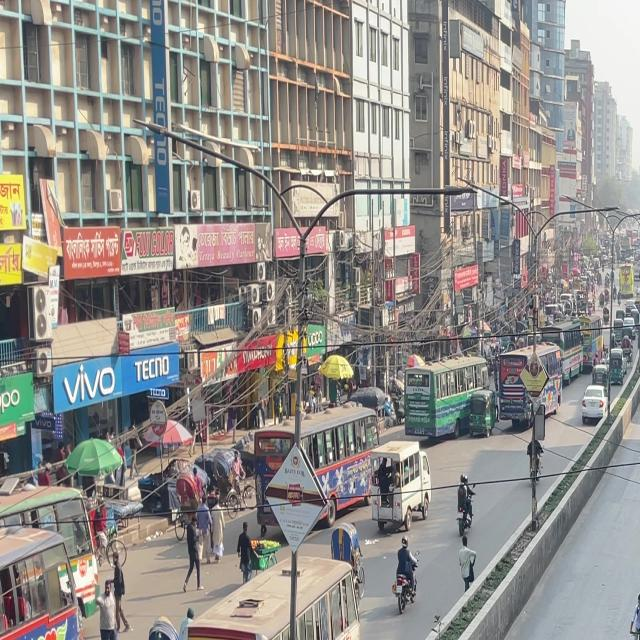bicycle: (626, 574, 640, 640)
bus: (180, 548, 368, 640), (0, 509, 78, 640), (400, 354, 498, 440), (500, 330, 564, 430)
car: (580, 389, 609, 425)
motorbike: (389, 539, 428, 620), (450, 474, 478, 536)
rickshaw: (468, 391, 496, 436)
van: (364, 440, 437, 520)
